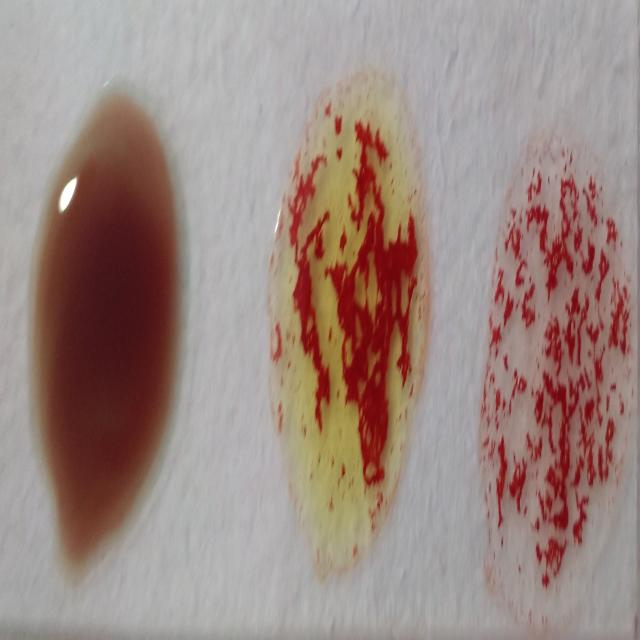B: (275, 87, 429, 569)
D: (484, 135, 627, 633)
